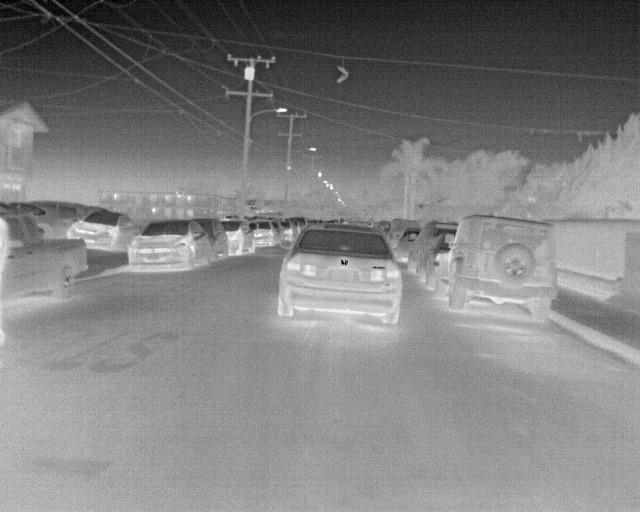car: (429, 217, 560, 318), (277, 224, 404, 325), (4, 213, 88, 306), (125, 220, 212, 270), (410, 222, 461, 282), (5, 200, 73, 244), (67, 210, 136, 249), (420, 233, 456, 292), (221, 220, 254, 257), (201, 220, 233, 258), (386, 219, 418, 253), (393, 228, 422, 260), (251, 220, 278, 247), (267, 217, 286, 247), (280, 220, 296, 246), (285, 217, 308, 231)
